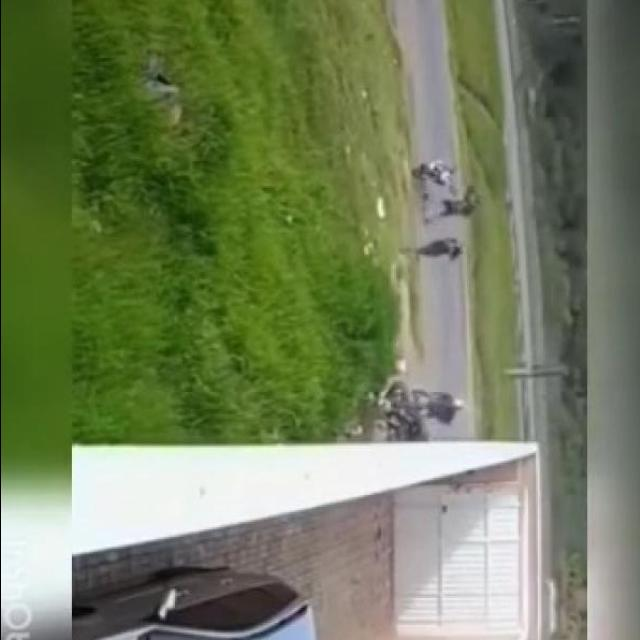accident: (380, 371, 436, 449)
